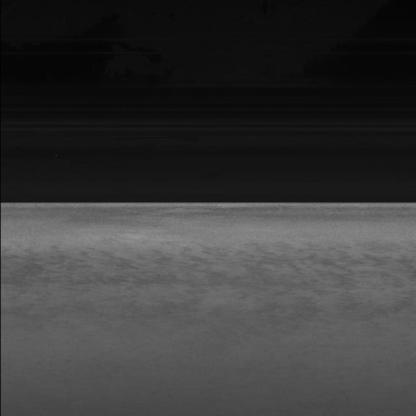silk_spot: (50, 234, 371, 289)
